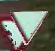Give way: (1, 3, 48, 48)
